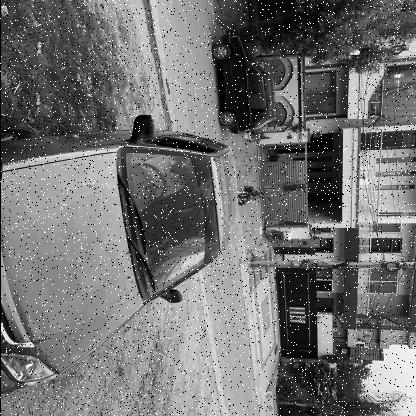no_seatbelt: (134, 155, 193, 191)
